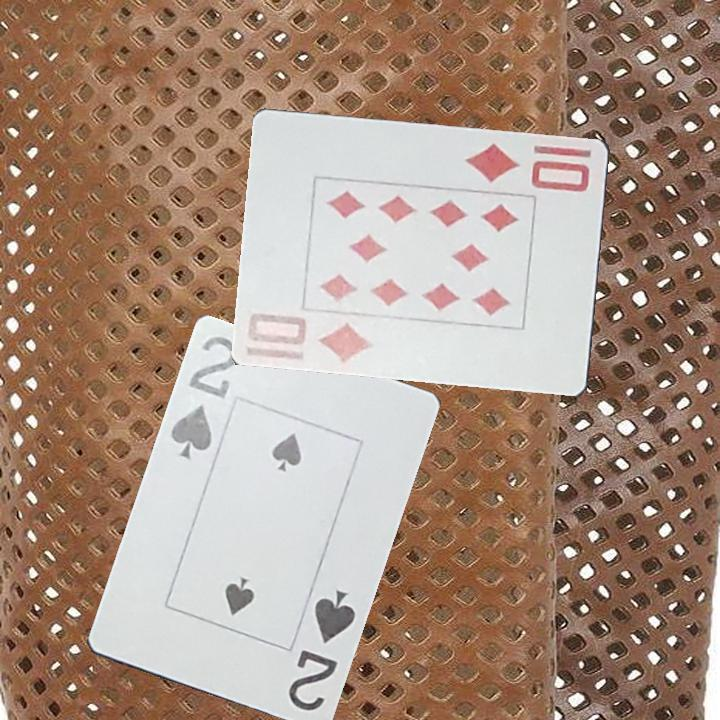2s: (167, 333, 243, 463), (285, 586, 360, 715)
Td: (462, 139, 593, 195), (244, 309, 377, 364)
